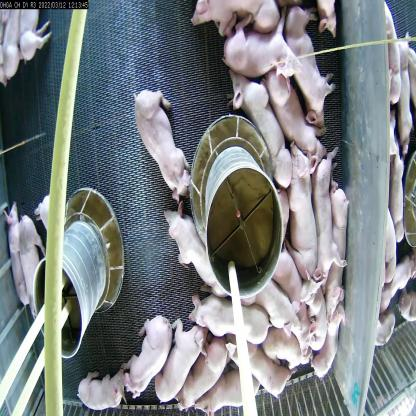Pig: (161, 184, 225, 312), (132, 80, 192, 200), (238, 73, 295, 190), (268, 43, 318, 161), (191, 287, 273, 348), (1, 195, 38, 328), (287, 15, 329, 113), (288, 134, 316, 270), (132, 322, 175, 401), (15, 206, 50, 300), (313, 155, 338, 286), (218, 30, 278, 81), (182, 343, 225, 412), (161, 320, 198, 398), (334, 188, 356, 310), (76, 369, 132, 416), (234, 343, 286, 390), (35, 177, 62, 267), (203, 372, 258, 415), (251, 275, 292, 327), (263, 326, 303, 378), (304, 275, 329, 356), (188, 0, 258, 28)
